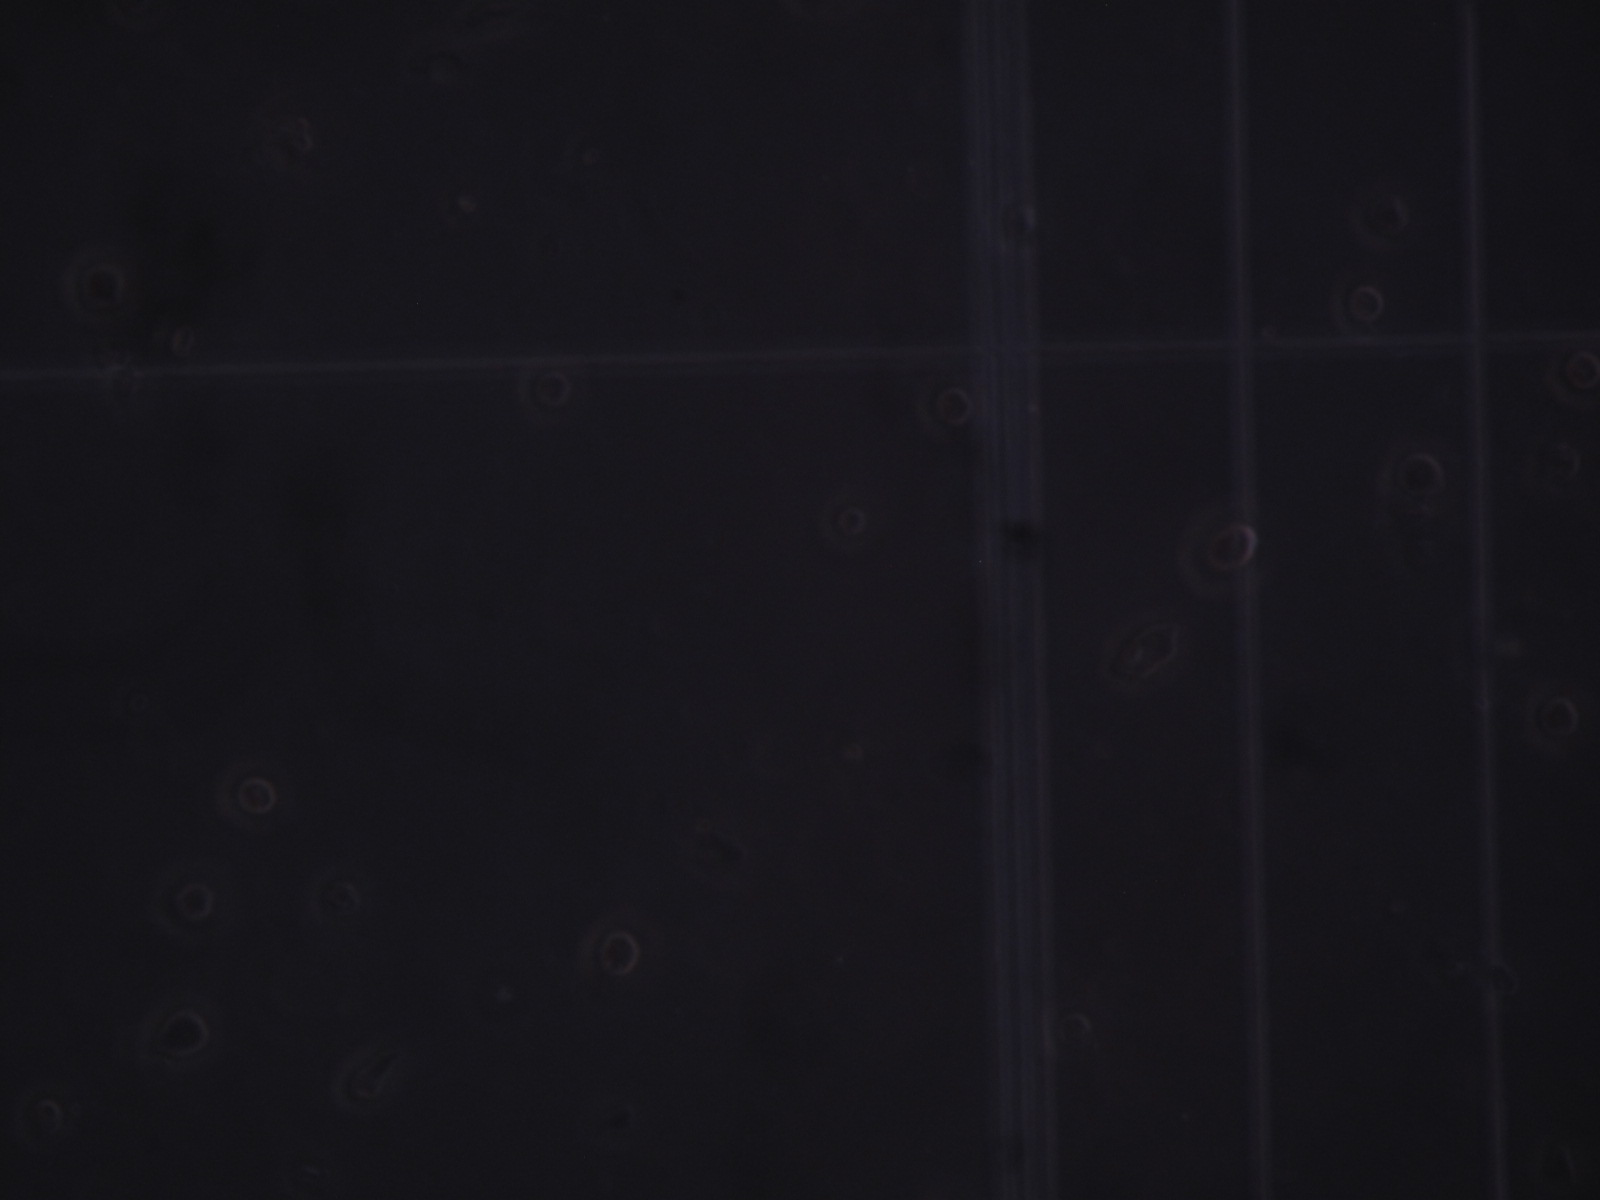hemo: (1177, 511, 1260, 597), (1096, 608, 1178, 688), (149, 863, 215, 945), (59, 252, 127, 326), (210, 759, 280, 828), (144, 997, 212, 1066), (1327, 268, 1385, 347), (576, 913, 643, 978), (1383, 446, 1448, 513), (518, 355, 574, 427), (1351, 182, 1409, 250), (819, 487, 871, 555), (915, 383, 973, 437), (24, 1090, 76, 1145), (986, 197, 1038, 250)
